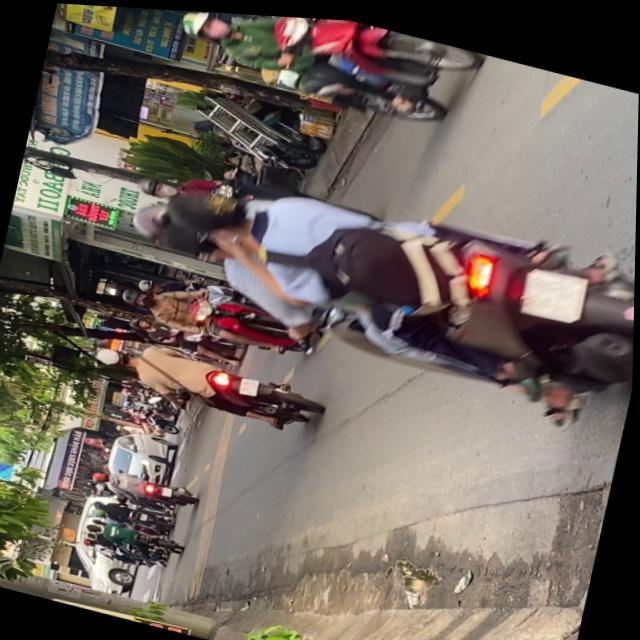helmet: (126, 193, 214, 257), (176, 8, 236, 45), (134, 170, 180, 201), (94, 342, 135, 369), (118, 283, 156, 308)
licenseplate: (105, 126, 638, 429), (165, 8, 481, 138), (88, 328, 327, 437)
motorcyclist: (162, 172, 267, 244)
nohelmet: (520, 257, 588, 319), (238, 372, 259, 393)
